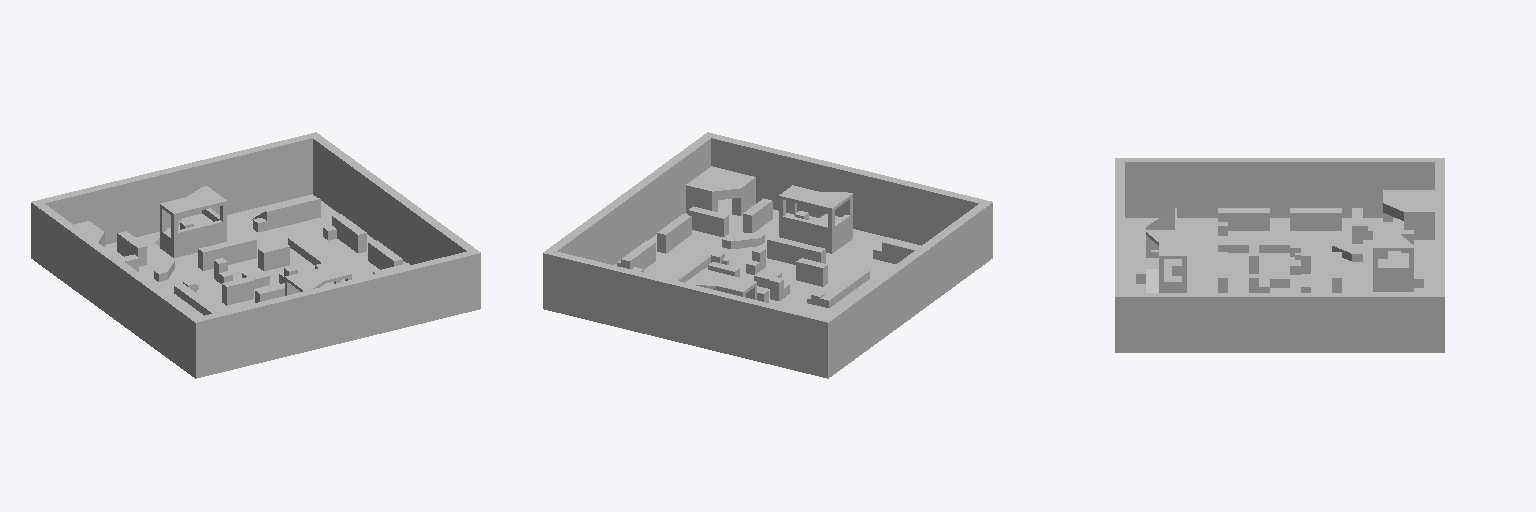
File: newmapasdfasdf.obj
3 renders of one model, left to right at view 1: azimuth 30°, elevation 25°; view 2: azimuth 150°, elevation 25°; view 3: azimuth 270°, elevation 25°, orthographic.
Visible parts, largest first — view 1: world_geometry_world_geometry_MESH_world_geometry_world_geometr; view 2: world_geometry_world_geometry_MESH_world_geometry_world_geometr; view 3: world_geometry_world_geometry_MESH_world_geometry_world_geometr.
Part boxes in pixels (bbox=[...]): world_geometry_world_geometry_MESH_world_geometry_world_geometr: bbox=[31, 132, 480, 378]; world_geometry_world_geometry_MESH_world_geometry_world_geometr: bbox=[543, 132, 992, 378]; world_geometry_world_geometry_MESH_world_geometry_world_geometr: bbox=[1115, 158, 1444, 352].
Bounding box in the file's own units: 195 × 37.18 × 195.